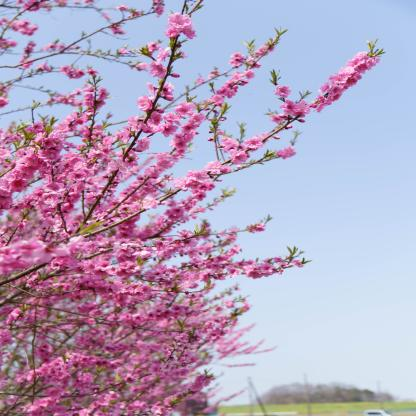Momo: (0, 0, 384, 416)
